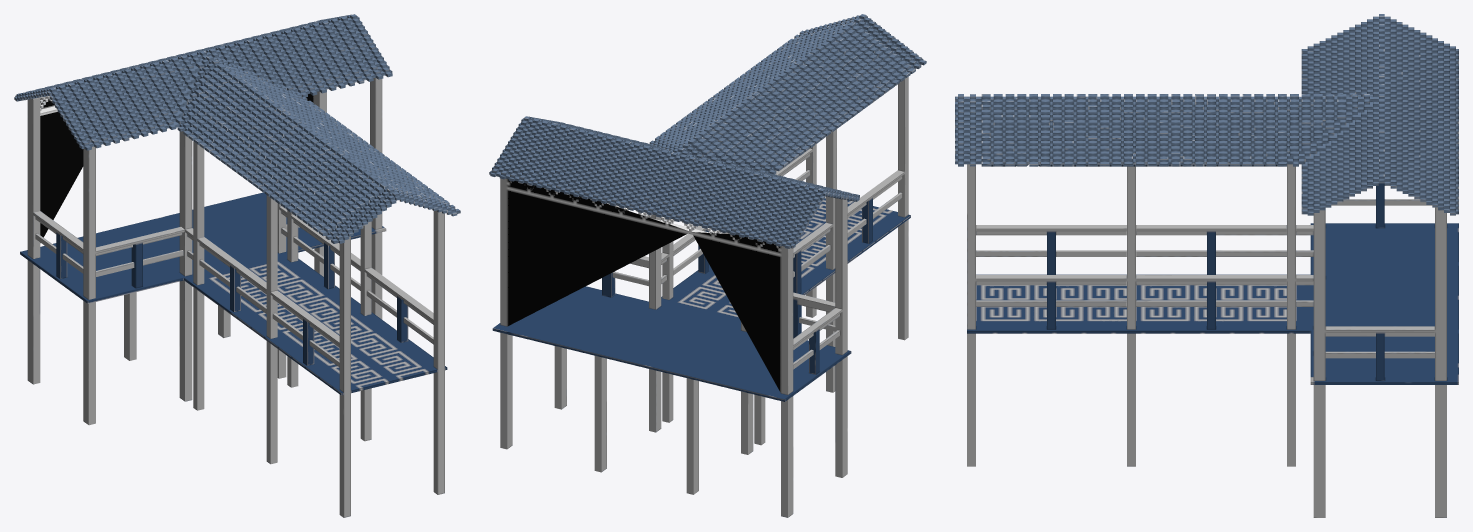
The model's file is Trapiche-1.fbx.
3 views of the same model, side by side, from view 1: azimuth 30°, elevation 25°; view 2: azimuth 150°, elevation 25°; view 3: azimuth 270°, elevation 25° (orthographic). The views are drawn at different scales.
Visible parts, largest first — view 1: Trapiche-1; view 2: Trapiche-1; view 3: Trapiche-1.
Boxes of the visible parts, <box> form: Trapiche-1: <box>14,14,460,517</box>; Trapiche-1: <box>489,14,926,517</box>; Trapiche-1: <box>955,14,1458,517</box>.
Bounding box in the file's own units: 1320 × 1280 × 1700.
